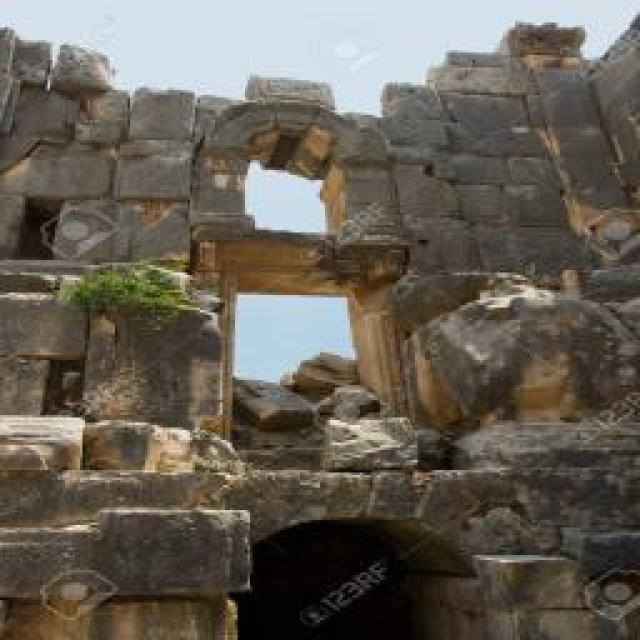Crack: (1, 12, 638, 638)
